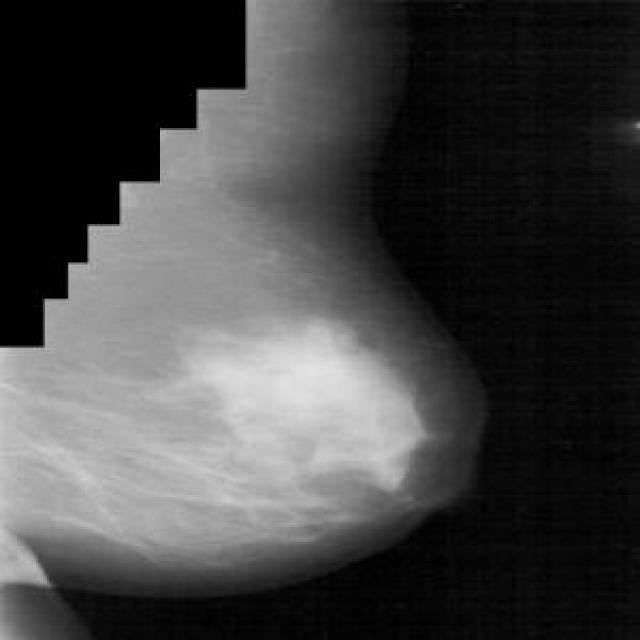tumor: (184, 308, 434, 507)
